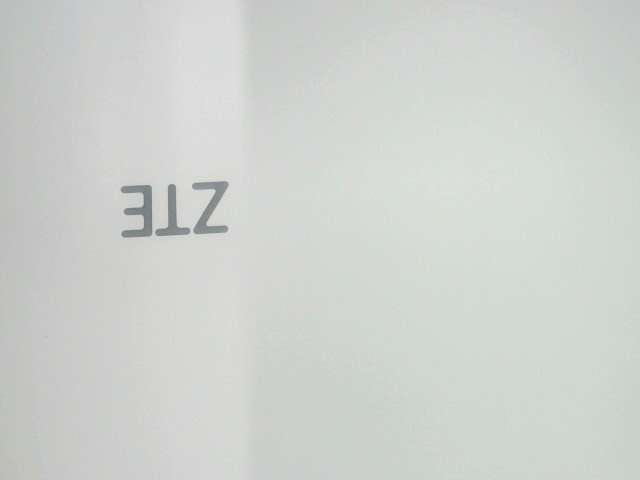AN_ZTE: (116, 177, 234, 242)
